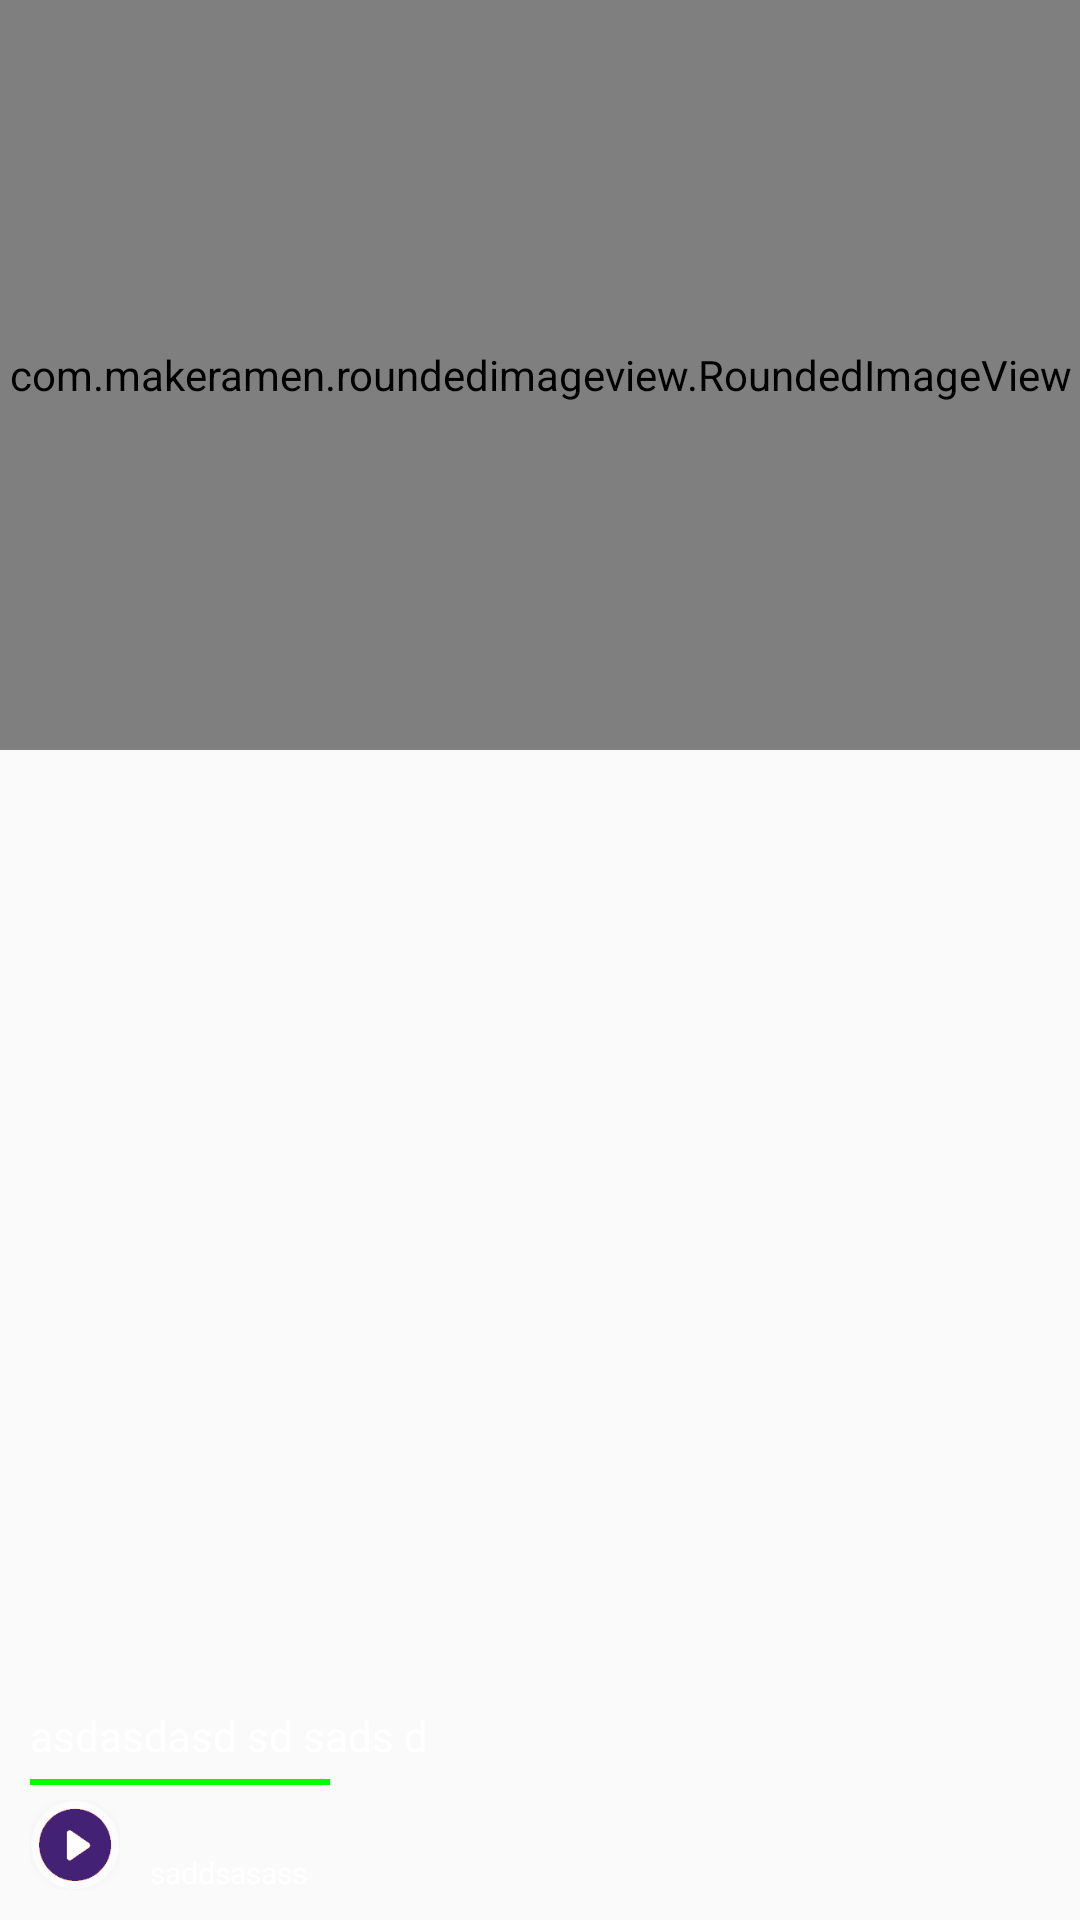

Icon click points for this 1080×1920 phone screenshot, format (x=x, y=y):
play: (x=75, y=1844)
